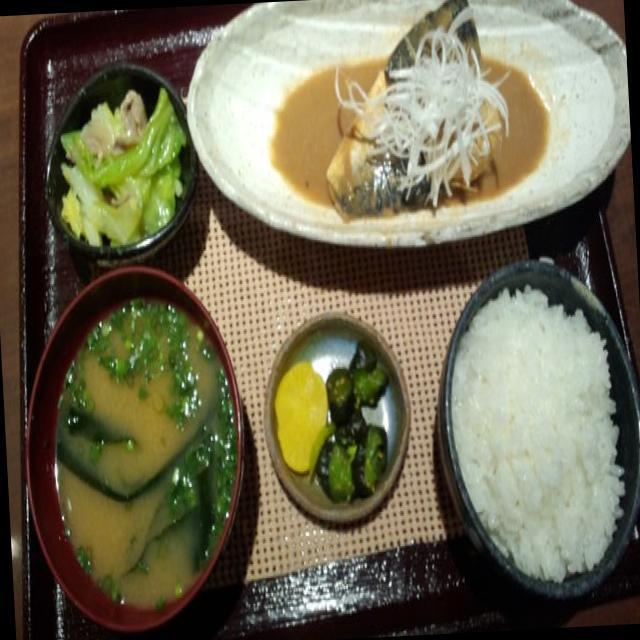Rice: (450, 280, 623, 583)
